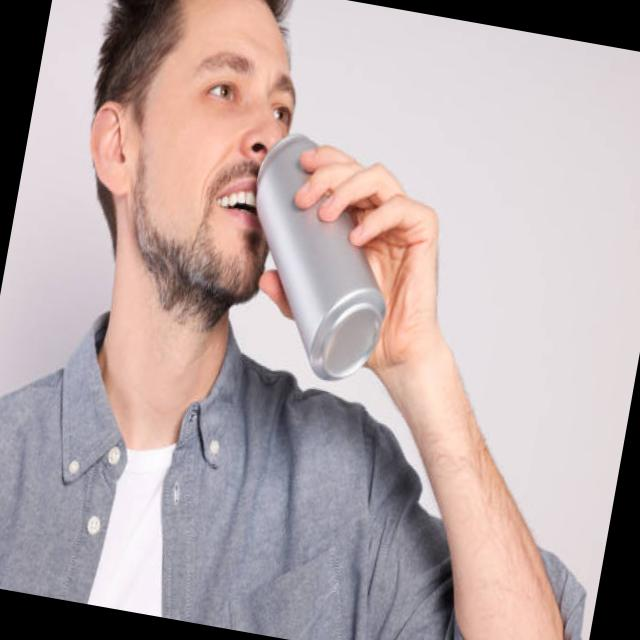soda_can: (246, 88, 408, 397)
